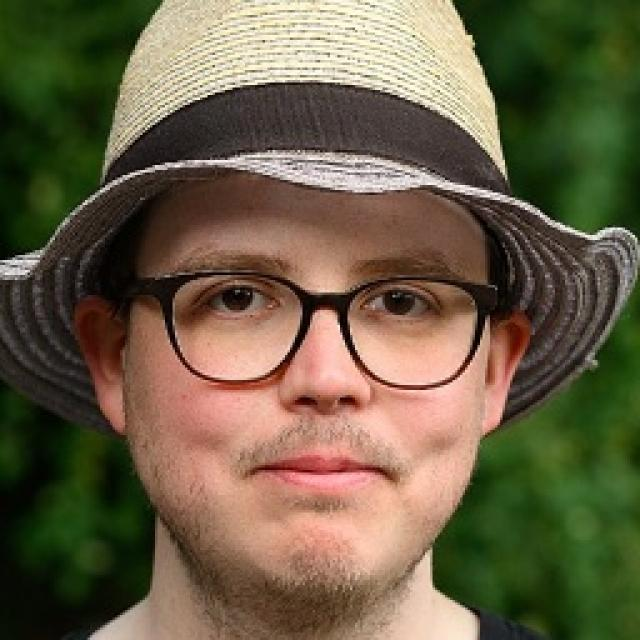glasses: (89, 255, 518, 405)
